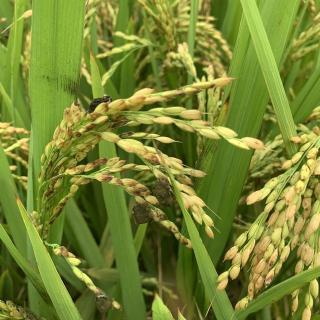Gosong-Palsu: (150, 175, 180, 207), (129, 200, 155, 226), (87, 94, 112, 114), (93, 292, 113, 314)
